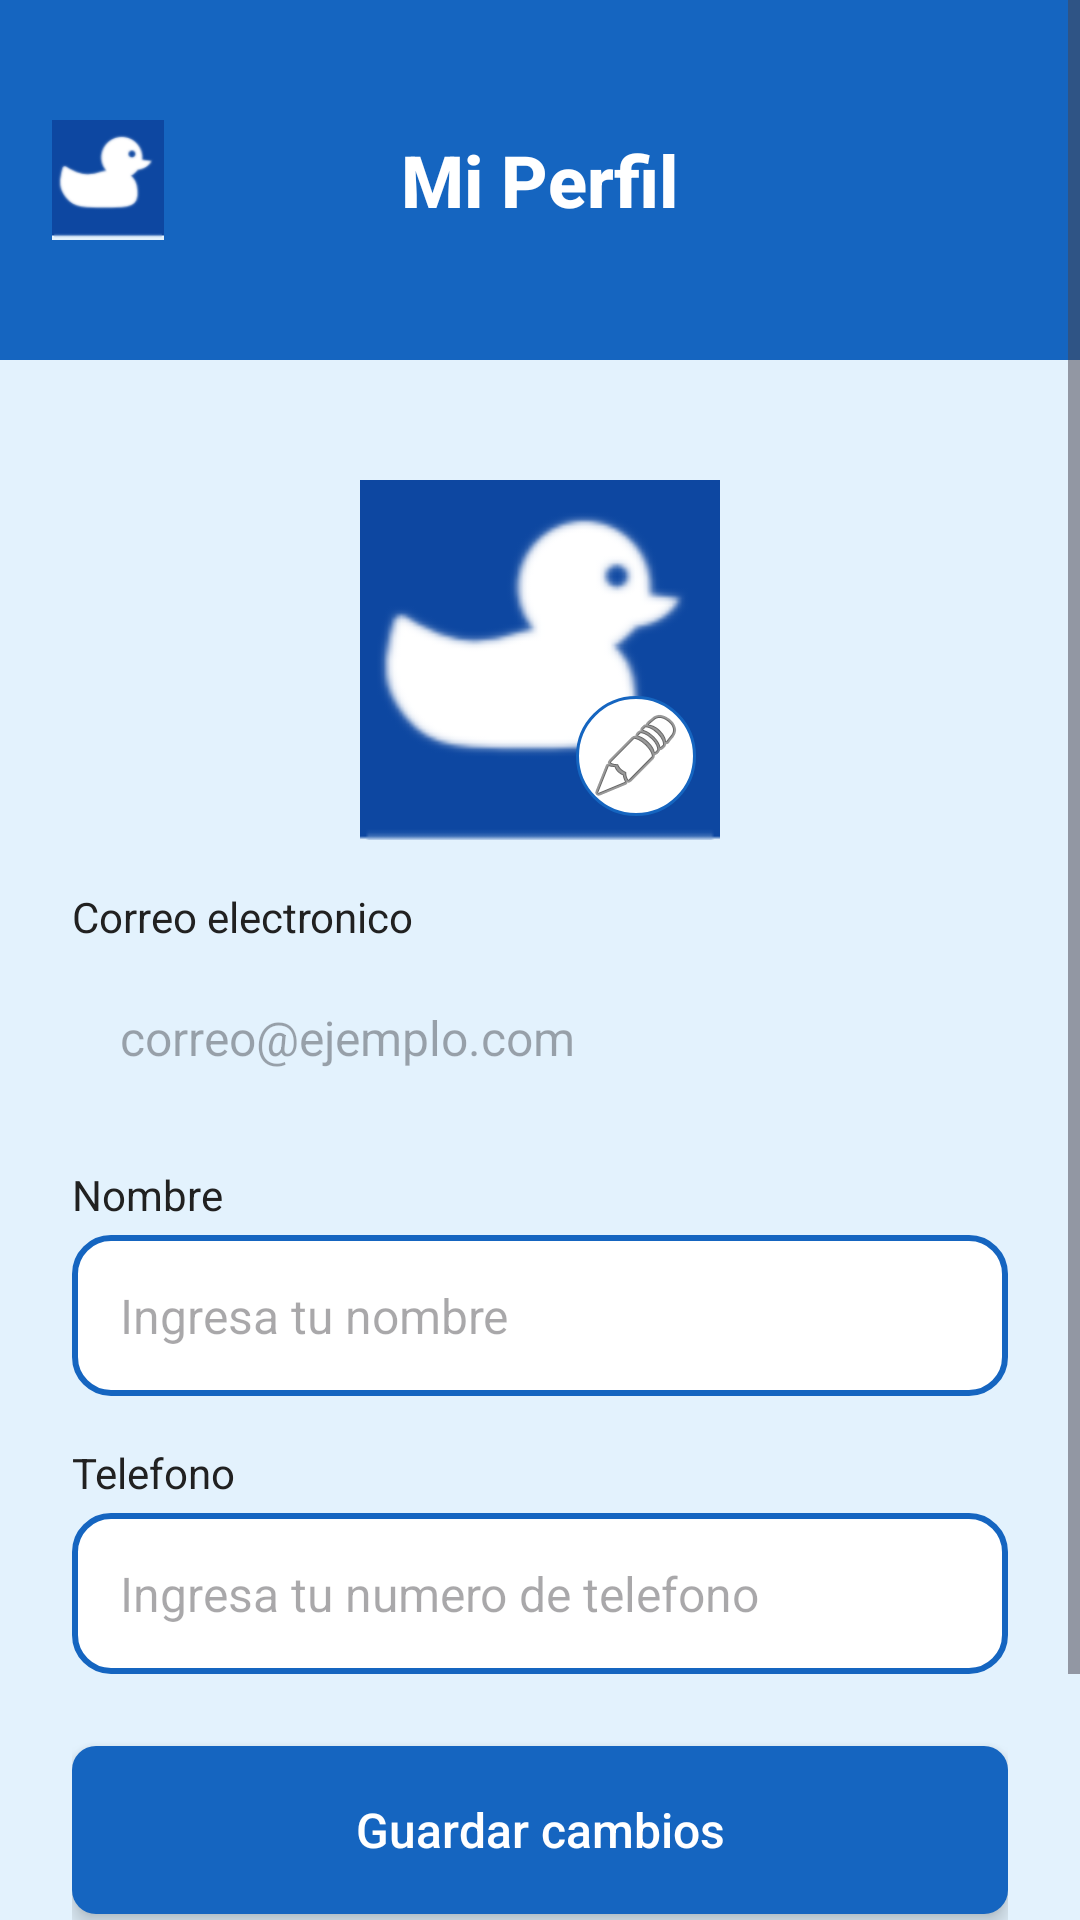

Where to tap for icons on this 1080w x 1920h app screen, as (x=x, y=y):
Cambiar foto: (x=636, y=756)
